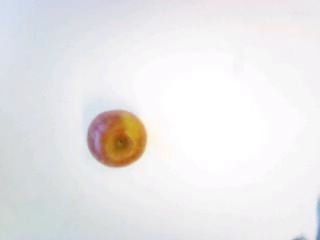apple: (86, 110, 144, 164)
